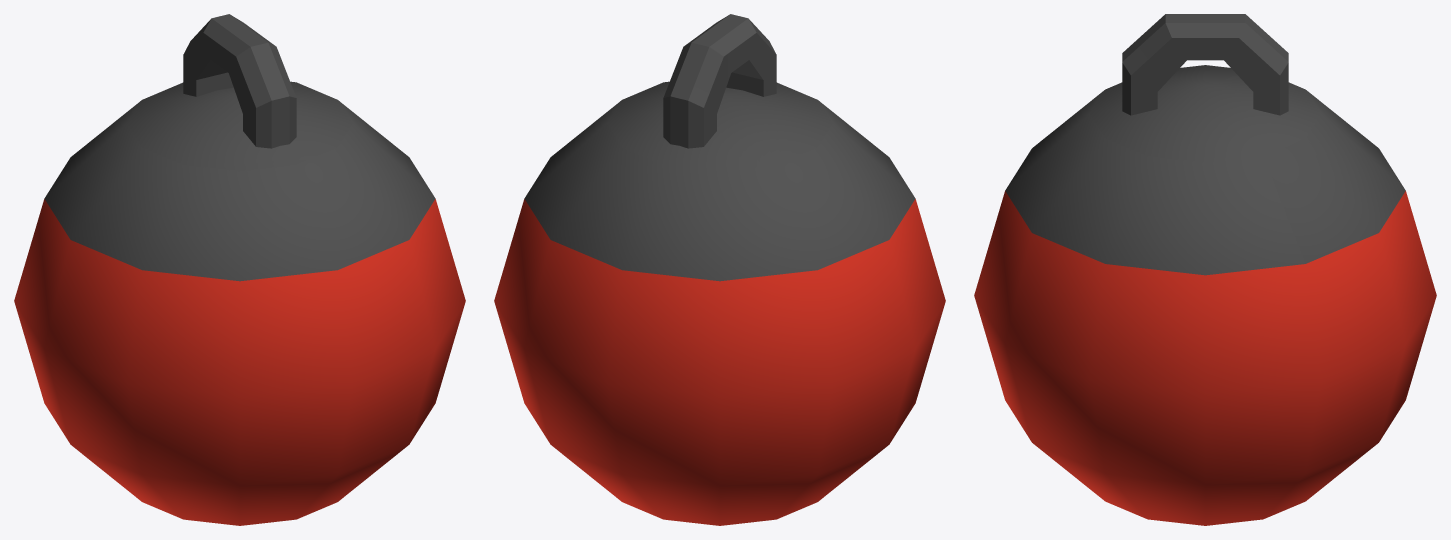
The model's file is prop_5.FBX.
The picture shows the model from 3 angles, left to right: view 1: azimuth 30°, elevation 25°; view 2: azimuth 150°, elevation 25°; view 3: azimuth 270°, elevation 25°; orthographic projection. The views are drawn at different scales.
Visible parts, largest first — view 1: prop_5; view 2: prop_5; view 3: prop_5.
Boxes of the visible parts, bbox=[...] form: prop_5: bbox=[14, 14, 465, 525]; prop_5: bbox=[494, 14, 945, 525]; prop_5: bbox=[974, 14, 1436, 525].
Bounding box in the file's own units: 21.11 × 24.5 × 21.11.
